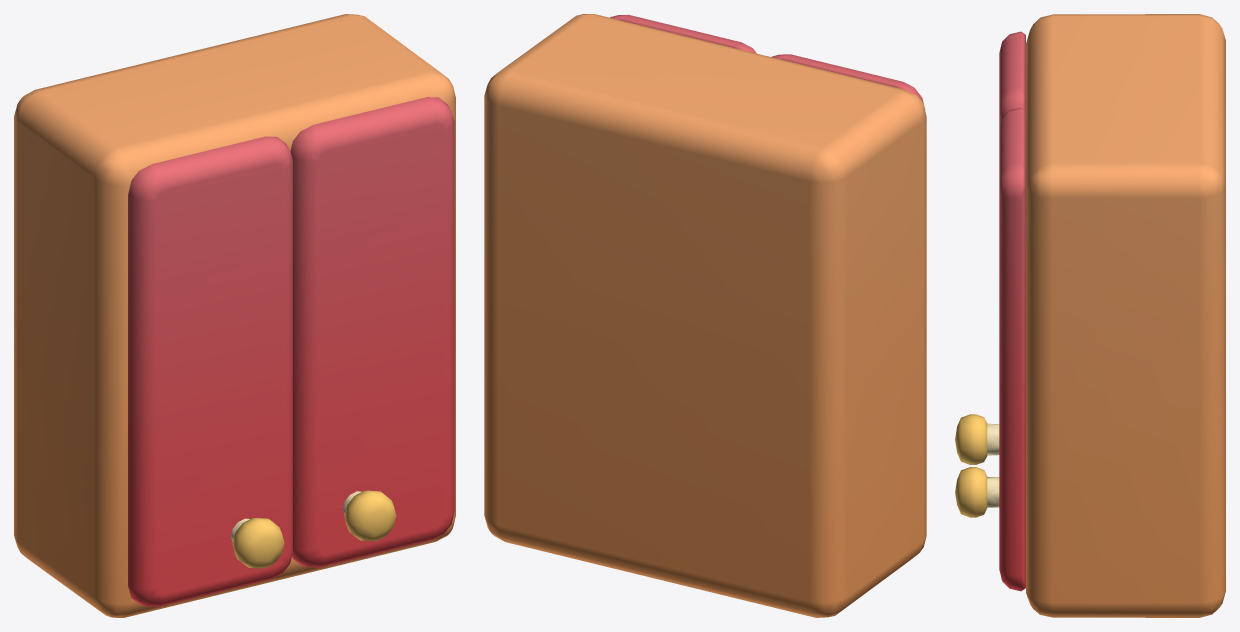
File: Kitchen_Cabinet_002.fbx
The picture shows the model from 3 angles, left to right: view 1: azimuth 30°, elevation 25°; view 2: azimuth 150°, elevation 25°; view 3: azimuth 270°, elevation 25°; orthographic projection. The views are drawn at different scales.
Visible parts, largest first — view 1: Kitchen_Cabinet_002; view 2: Kitchen_Cabinet_002; view 3: Kitchen_Cabinet_002.
Part boxes in pixels (<box>): Kitchen_Cabinet_002: <box>14,14,455,617</box>; Kitchen_Cabinet_002: <box>484,14,926,617</box>; Kitchen_Cabinet_002: <box>955,14,1225,617</box>.
Bounding box in the file's own units: 0.6377 × 0.7971 × 0.4322.
